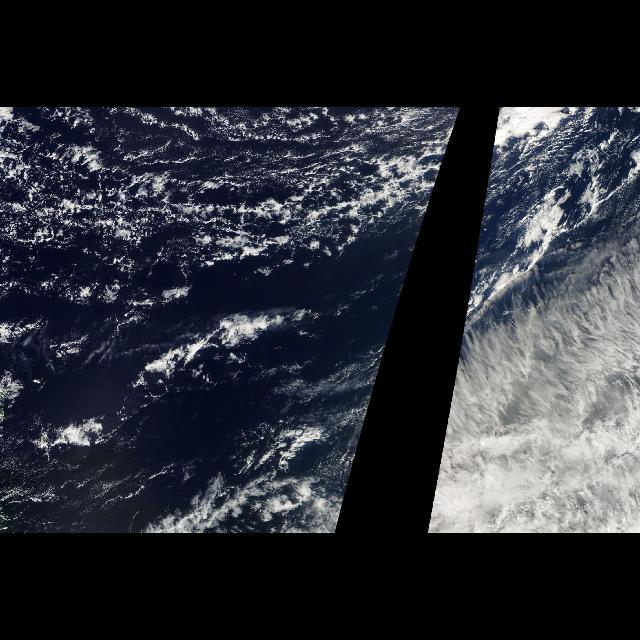Gravel: (2, 111, 462, 291)
